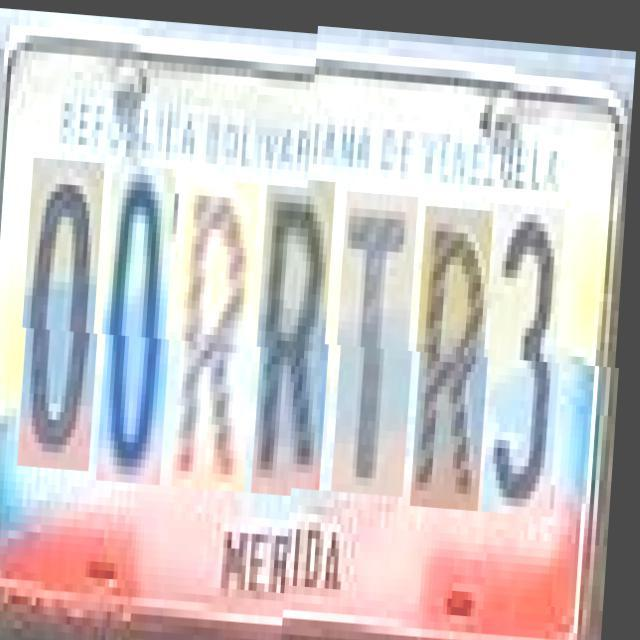3: (488, 203, 572, 515)
O: (23, 157, 112, 470), (102, 162, 182, 482)
R: (178, 175, 266, 488), (258, 180, 342, 492), (416, 207, 499, 510)
T: (337, 193, 424, 498)
